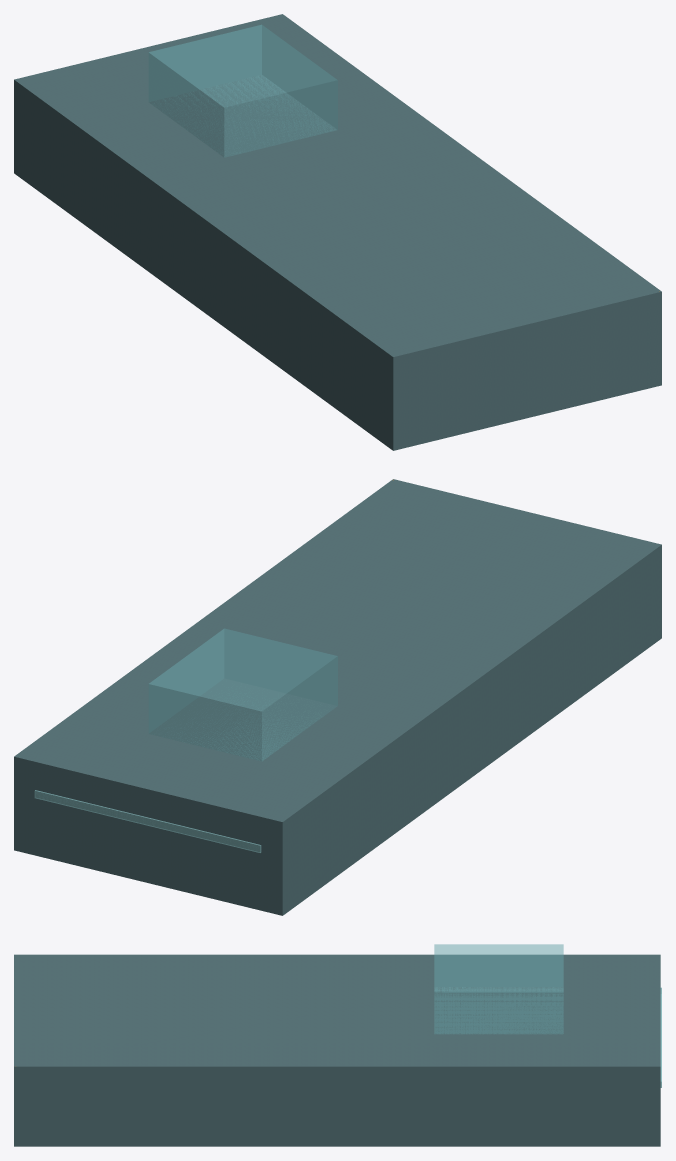
The picture shows the model from 3 angles, top to bottom: view 1: azimuth 30°, elevation 25°; view 2: azimuth 150°, elevation 25°; view 3: azimuth 270°, elevation 25°; orthographic projection. The views are drawn at different scales.
Visible parts, largest first — view 1: 原三盒载具代理尺寸派生; view 2: 原三盒载具代理尺寸派生; view 3: 原三盒载具代理尺寸派生.
Part boxes in pixels (bbox=[...]): 原三盒载具代理尺寸派生: bbox=[14, 14, 661, 450]; 原三盒载具代理尺寸派生: bbox=[14, 479, 661, 915]; 原三盒载具代理尺寸派生: bbox=[14, 944, 661, 1146].
Bounding box in the file's own units: 4.5 × 2.3 × 11.03.
4 materials, 4 textured.
